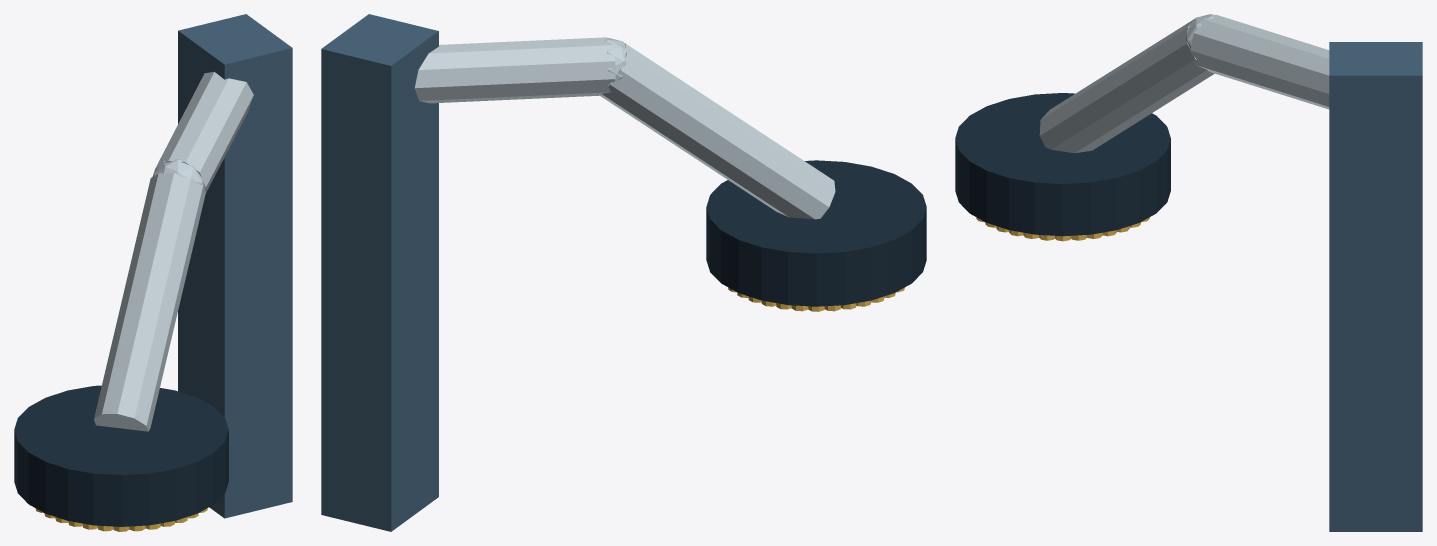
Rendered from 20_L77_BulkPadConditioningAssembly.fbx.
The picture shows the model from 3 angles, left to right: view 1: azimuth 30°, elevation 25°; view 2: azimuth 150°, elevation 25°; view 3: azimuth 270°, elevation 25°; orthographic projection. The views are drawn at different scales.
Visible parts, largest first — view 1: BulkPadConditioningAssembly_Part_0000, BulkPadConditioningAssembly_Part_0004, BulkPadConditioningAssembly_Part_0002, BulkPadConditioningAssembly_Part_0001, BulkPadConditioningAssembly_Part_0003; view 2: BulkPadConditioningAssembly_Part_0000, BulkPadConditioningAssembly_Part_0004, BulkPadConditioningAssembly_Part_0002, BulkPadConditioningAssembly_Part_0001; view 3: BulkPadConditioningAssembly_Part_0000, BulkPadConditioningAssembly_Part_0004, BulkPadConditioningAssembly_Part_0002, BulkPadConditioningAssembly_Part_0001.
Part boxes in pixels (x1,y1,x2,y2): BulkPadConditioningAssembly_Part_0000: (178,14,292,518); BulkPadConditioningAssembly_Part_0004: (14,385,228,526); BulkPadConditioningAssembly_Part_0002: (94,173,205,431); BulkPadConditioningAssembly_Part_0001: (153,71,253,192); BulkPadConditioningAssembly_Part_0003: (152,159,204,187); BulkPadConditioningAssembly_Part_0000: (321,14,438,531); BulkPadConditioningAssembly_Part_0004: (706,160,926,306); BulkPadConditioningAssembly_Part_0002: (600,43,835,219); BulkPadConditioningAssembly_Part_0001: (415,37,615,103); BulkPadConditioningAssembly_Part_0000: (1329,42,1422,531); BulkPadConditioningAssembly_Part_0004: (955,93,1170,236); BulkPadConditioningAssembly_Part_0002: (1039,17,1214,153); BulkPadConditioningAssembly_Part_0001: (1190,14,1329,109).
Bounding box in the file's own units: 128 × 140 × 130.
